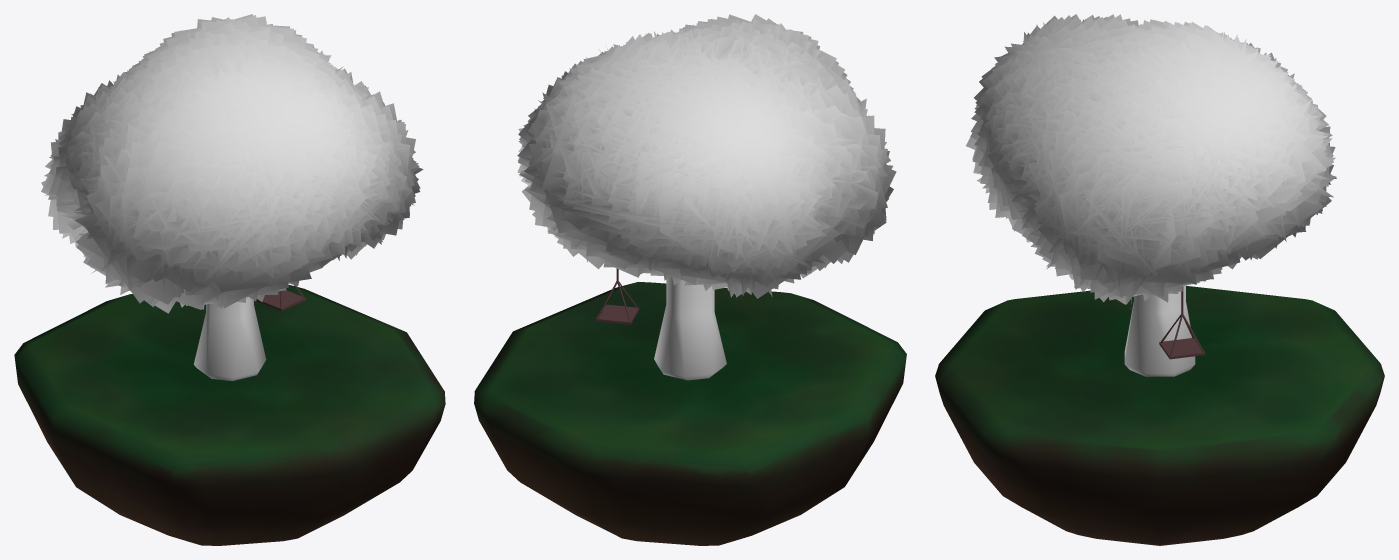
Rendered from miniBosqueOscuro.fbx.
3 views of the same model, side by side, from view 1: azimuth 30°, elevation 25°; view 2: azimuth 150°, elevation 25°; view 3: azimuth 270°, elevation 25° (orthographic). The views are drawn at different scales.
Visible parts, largest first — view 1: copa, base.002, Cube, Cylinder; view 2: copa, base.002, Cube, Cylinder; view 3: base.002, copa, Cube, Cylinder.
Part boxes in pixels (x1=…): copa: x1=41, y1=14, x2=423, y2=313; base.002: x1=14, y1=285, x2=445, y2=545; Cube: x1=193, y1=297, x2=266, y2=380; Cylinder: x1=256, y1=285, x2=306, y2=311; copa: x1=517, y1=14, x2=896, y2=298; base.002: x1=474, y1=282, x2=906, y2=545; Cube: x1=654, y1=276, x2=726, y2=380; Cylinder: x1=596, y1=268, x2=639, y2=324; base.002: x1=935, y1=285, x2=1384, y2=545; copa: x1=966, y1=14, x2=1336, y2=308; Cube: x1=1124, y1=285, x2=1195, y2=376; Cylinder: x1=1159, y1=286, x2=1205, y2=359.
Bounding box in the file's own units: 721 × 911 × 766.
3 materials, 1 textured.
